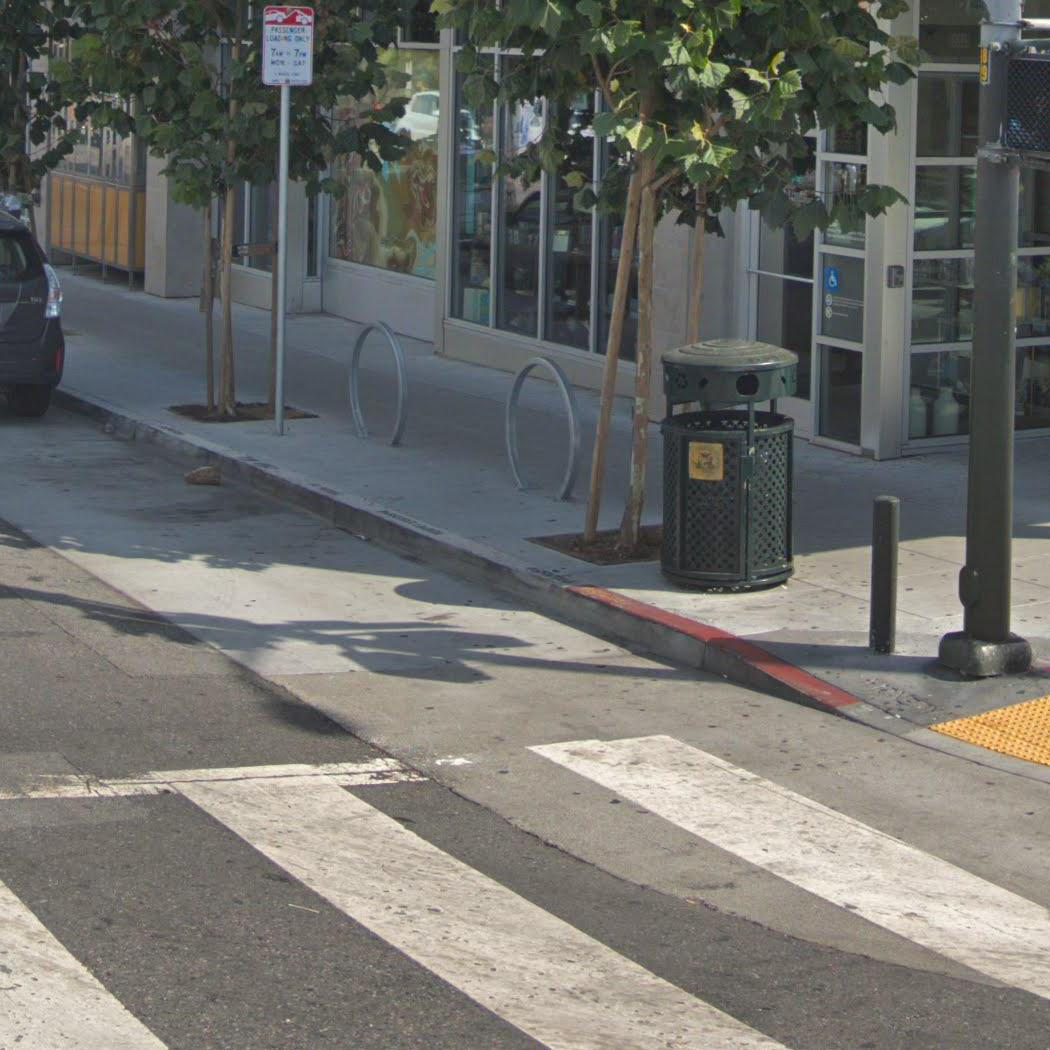No Parking: (260, 3, 316, 88)
